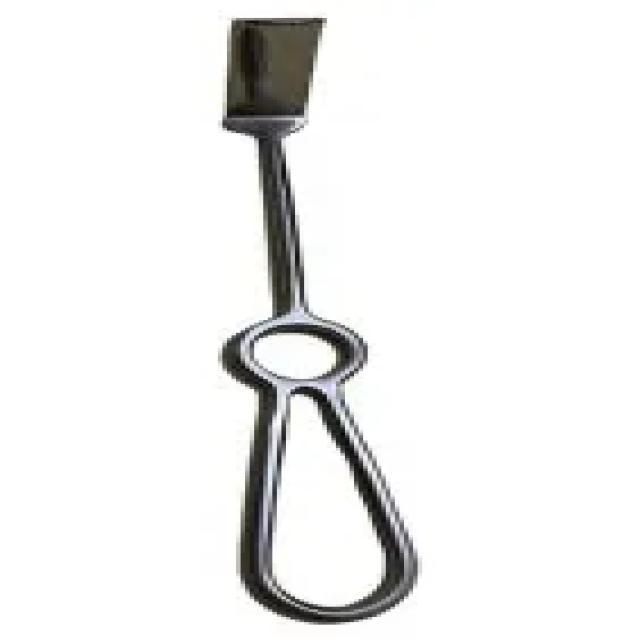Langenbach Retractor: (205, 11, 429, 628)
